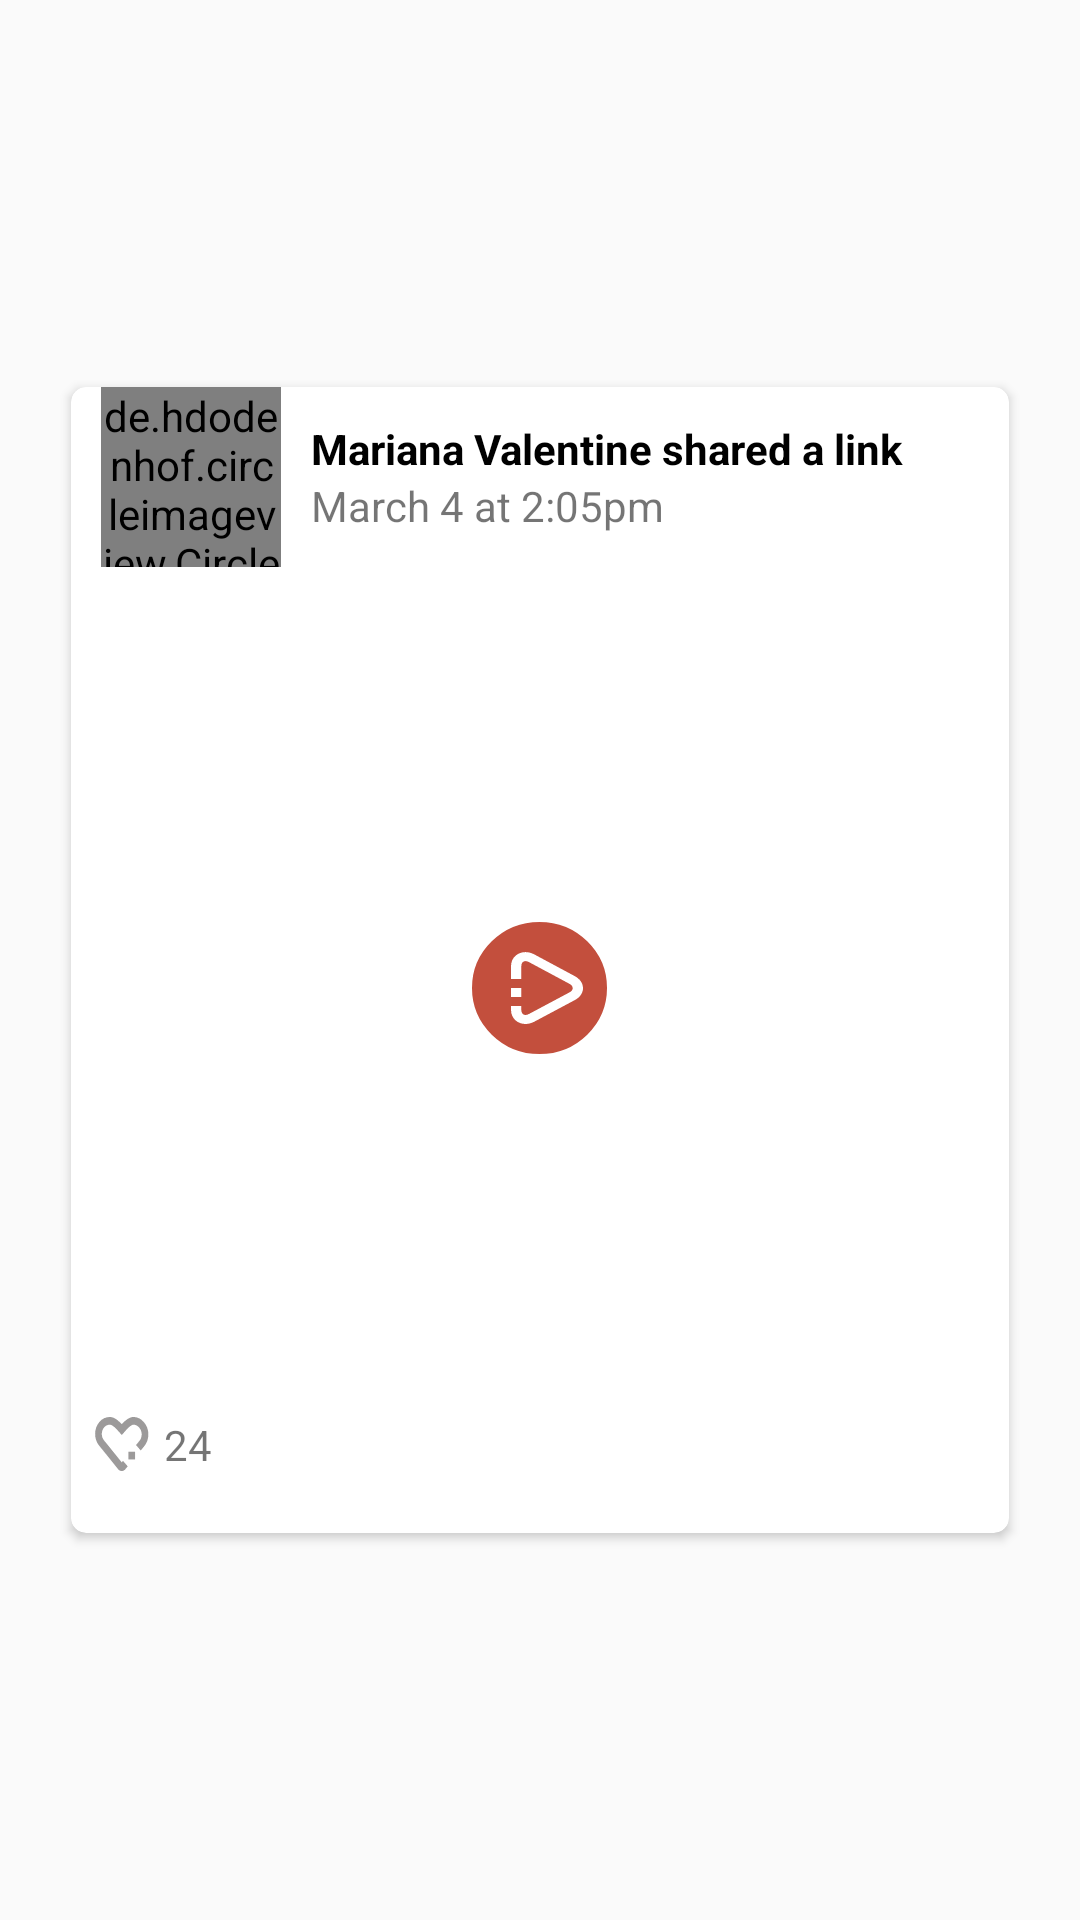

Icons on this 1080 × 1920 Android screen, each with the point to tap as [x,y]:
like post: [122,1444]
